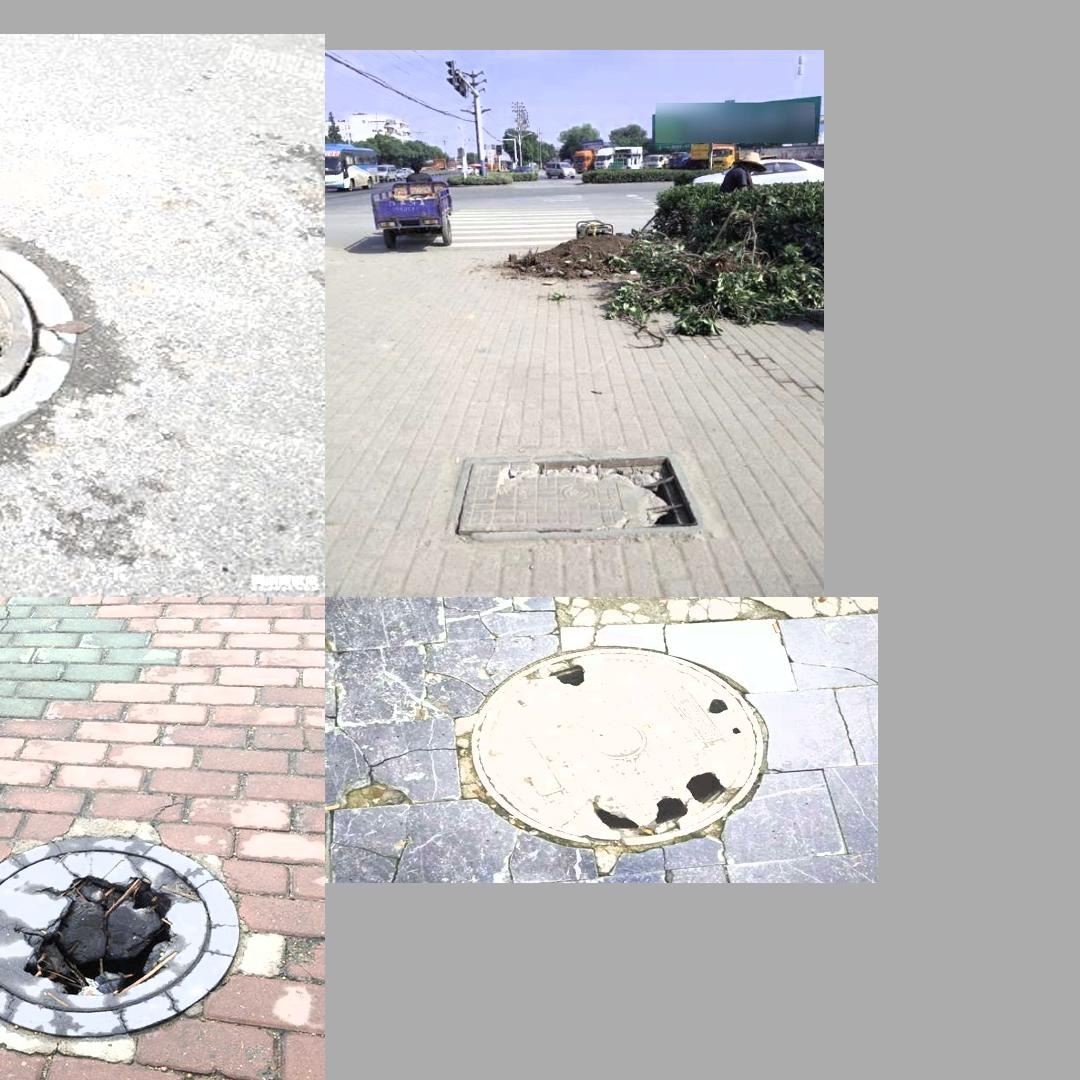broke: (471, 648, 763, 846), (0, 825, 259, 1038), (443, 451, 707, 543), (0, 196, 89, 464)
